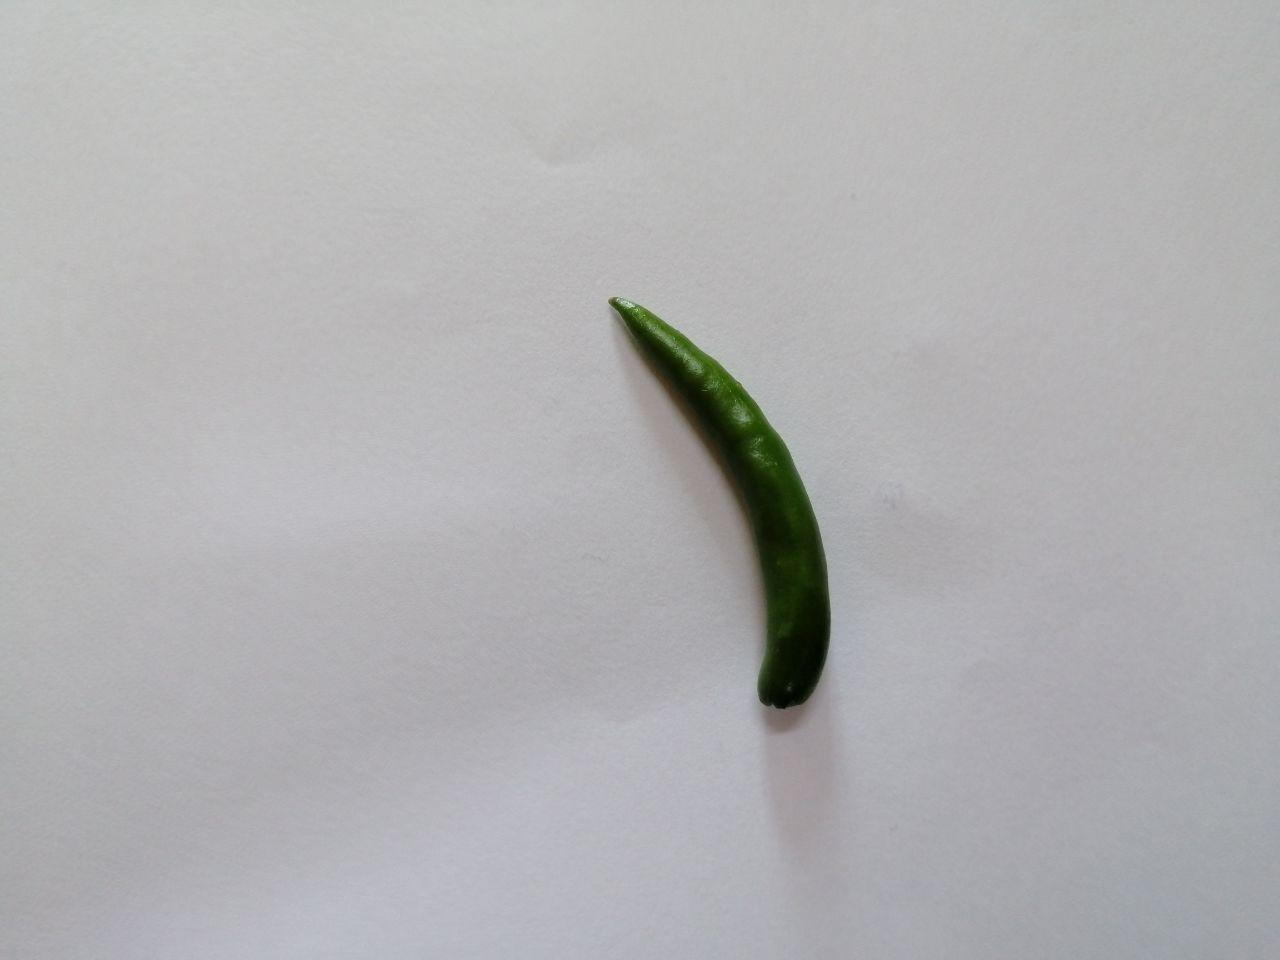lada hijau: (588, 281, 850, 733)
